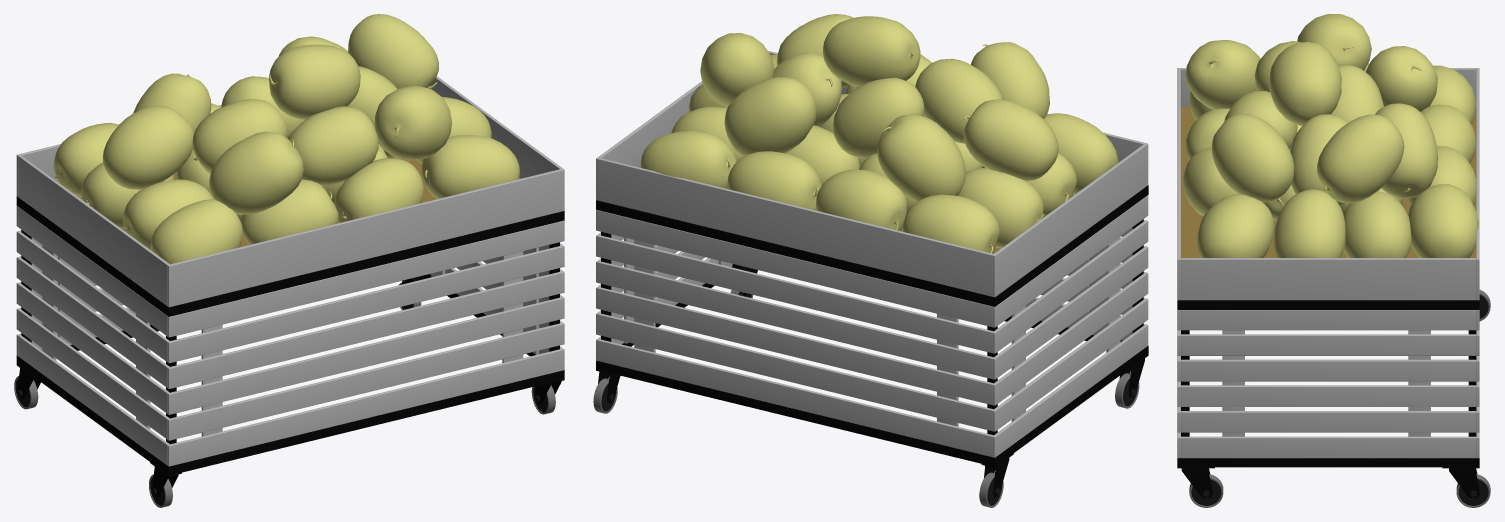
File: dynia.fbx
3 views of the same model, side by side, from view 1: azimuth 30°, elevation 25°; view 2: azimuth 150°, elevation 25°; view 3: azimuth 270°, elevation 25° (orthographic).
Parts seen in each view (by area): view 1: displ_rack005, muskmelon215, muskmelon214, muskmelon249, muskmelon217, muskmelon245, muskmelon242, muskmelon180, muskmelon182, muskmelon183, muskmelon218, muskmelon181 (+8 smaller); view 2: displ_rack005, muskmelon214, muskmelon226, muskmelon219, muskmelon249, muskmelon250, muskmelon218, muskmelon184, muskmelon193, muskmelon191, muskmelon194, muskmelon245 (+8 smaller); view 3: displ_rack005, muskmelon245, muskmelon242, muskmelon249, muskmelon194, muskmelon185, muskmelon180, muskmelon215, muskmelon189, muskmelon219, muskmelon226, muskmelon214 (+10 smaller).
Boxes of the visible parts, box(x1,y1,x2,y2) form: displ_rack005: box(14, 76, 564, 507); muskmelon215: box(209, 131, 303, 214); muskmelon214: box(102, 105, 194, 189); muskmelon249: box(269, 44, 360, 119); muskmelon217: box(288, 106, 378, 185); muskmelon245: box(348, 14, 438, 88); muskmelon242: box(374, 85, 451, 160); muskmelon180: box(421, 135, 519, 198); muskmelon182: box(150, 199, 242, 264); muskmelon183: box(334, 158, 423, 223); muskmelon218: box(192, 99, 287, 174); muskmelon181: box(241, 179, 338, 244); displ_rack005: box(593, 51, 1148, 507); muskmelon214: box(963, 99, 1058, 181); muskmelon226: box(877, 114, 965, 202); muskmelon219: box(724, 77, 816, 156); muskmelon249: box(823, 16, 920, 87); muskmelon250: box(833, 77, 924, 158); muskmelon218: box(915, 58, 1003, 143); muskmelon184: box(815, 169, 906, 230); muskmelon193: box(902, 194, 999, 253); muskmelon191: box(727, 151, 821, 210); muskmelon194: box(640, 131, 736, 188); muskmelon245: box(700, 33, 774, 106); displ_rack005: box(1177, 68, 1490, 507); muskmelon245: box(1317, 114, 1404, 203); muskmelon242: box(1211, 114, 1294, 202); muskmelon249: box(1269, 42, 1341, 125); muskmelon194: box(1408, 184, 1478, 257); muskmelon185: box(1273, 189, 1345, 257); muskmelon180: box(1197, 194, 1273, 257); muskmelon215: box(1185, 40, 1260, 109); muskmelon189: box(1343, 191, 1411, 257); muskmelon219: box(1375, 103, 1437, 199); muskmelon226: box(1365, 46, 1437, 111); muskmelon214: box(1297, 14, 1371, 70).
Size of the model in its own units: 49.29 by 44.11 by 33.91.
